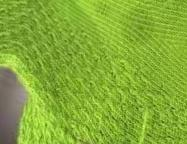snag: (133, 104, 161, 143)
